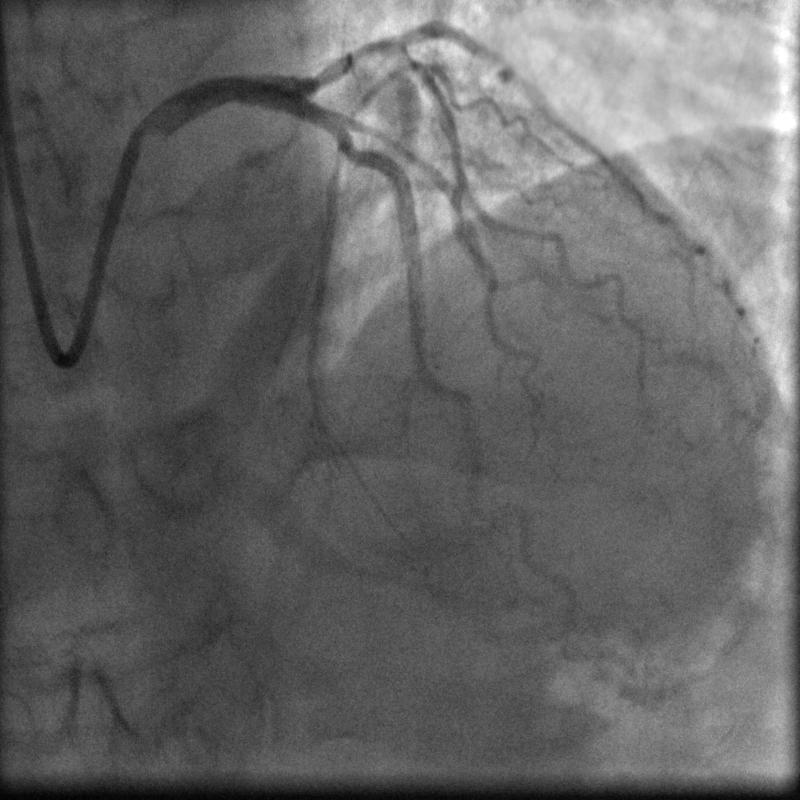Stenosis: (294, 50, 356, 89)
